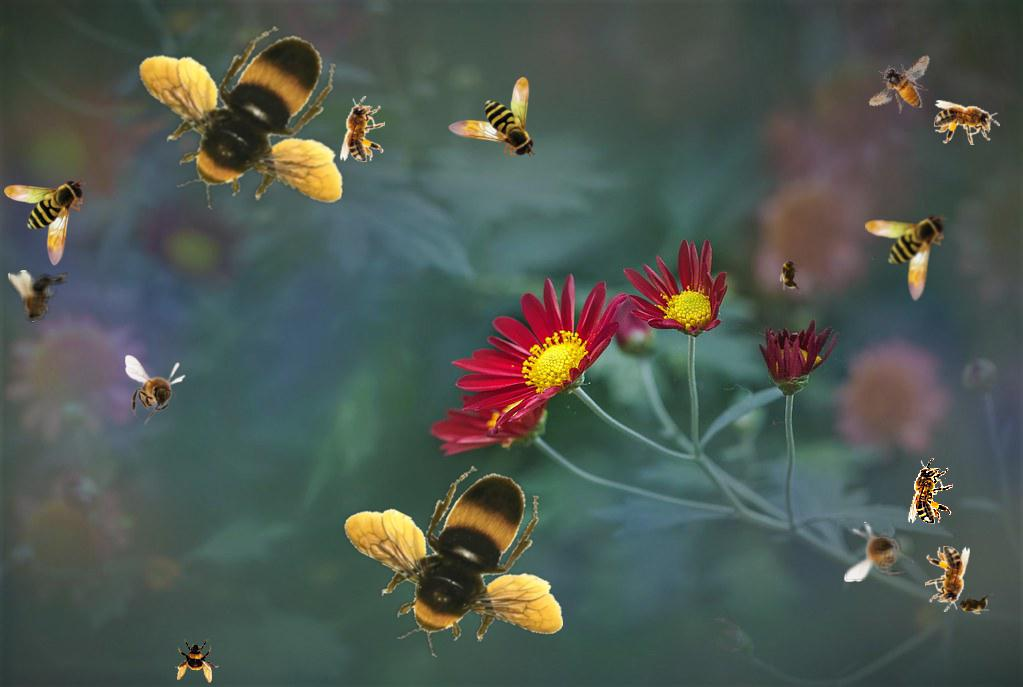Bee: (119, 7, 365, 228), (343, 466, 563, 657), (4, 178, 86, 266), (448, 77, 536, 159), (865, 213, 947, 301), (859, 53, 943, 122), (844, 521, 914, 582), (125, 355, 186, 425), (8, 270, 70, 323), (925, 546, 970, 612), (934, 100, 1000, 145), (340, 96, 385, 162), (908, 458, 953, 524), (175, 639, 219, 683), (953, 593, 993, 615), (779, 254, 801, 294)
